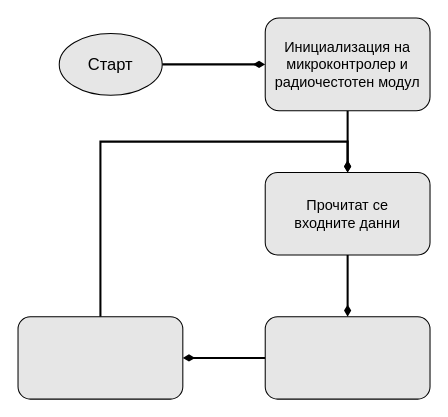
Image size: 448x417. Some labels were removed from this diagram. Each missing label, with the centre of its shape:
Изпращат се инструкции: the point at 100,357
Обработват се входните данни: the point at 347,357
